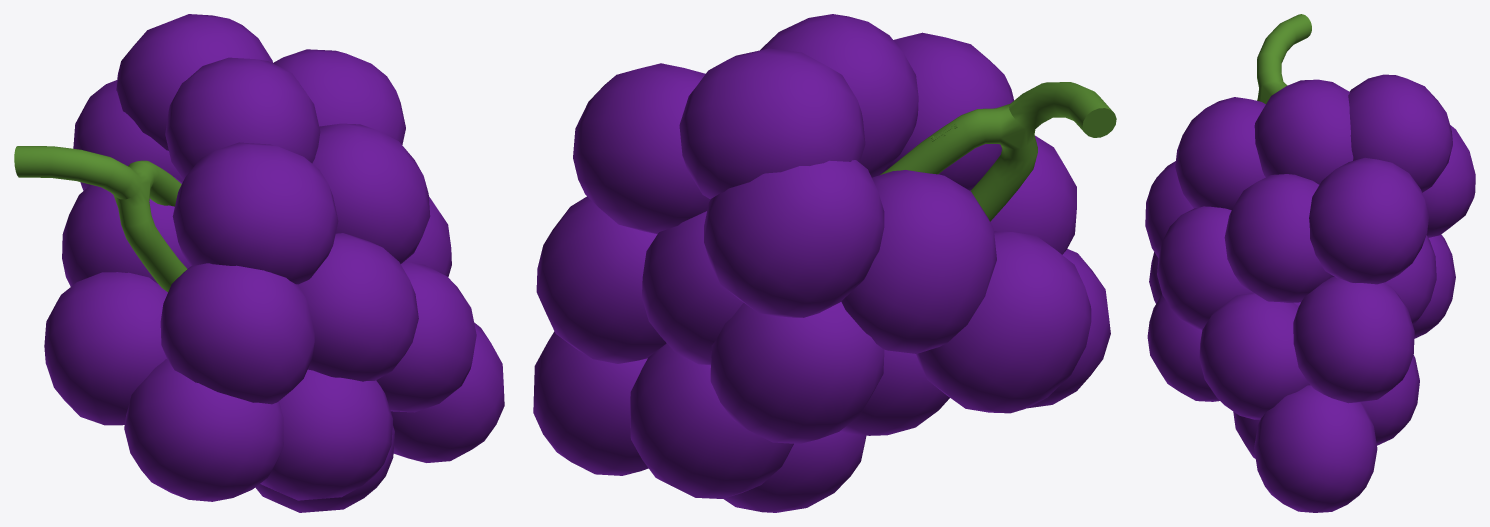
Rendered from grapes.gltf.
The picture shows the model from 3 angles, left to right: view 1: azimuth 30°, elevation 25°; view 2: azimuth 150°, elevation 25°; view 3: azimuth 270°, elevation 25°; orthographic projection. The views are drawn at different scales.
Visible parts, largest first — view 1: Circle.027; view 2: Circle.027; view 3: Circle.027.
Boxes of the visible parts, bbox=[...] form: Circle.027: bbox=[14, 14, 504, 512]; Circle.027: bbox=[533, 14, 1116, 512]; Circle.027: bbox=[1145, 14, 1475, 512].
Size of the model in its own units: 2.32 by 2.04 by 1.68.
Materials: 1 (1 with a texture image).
